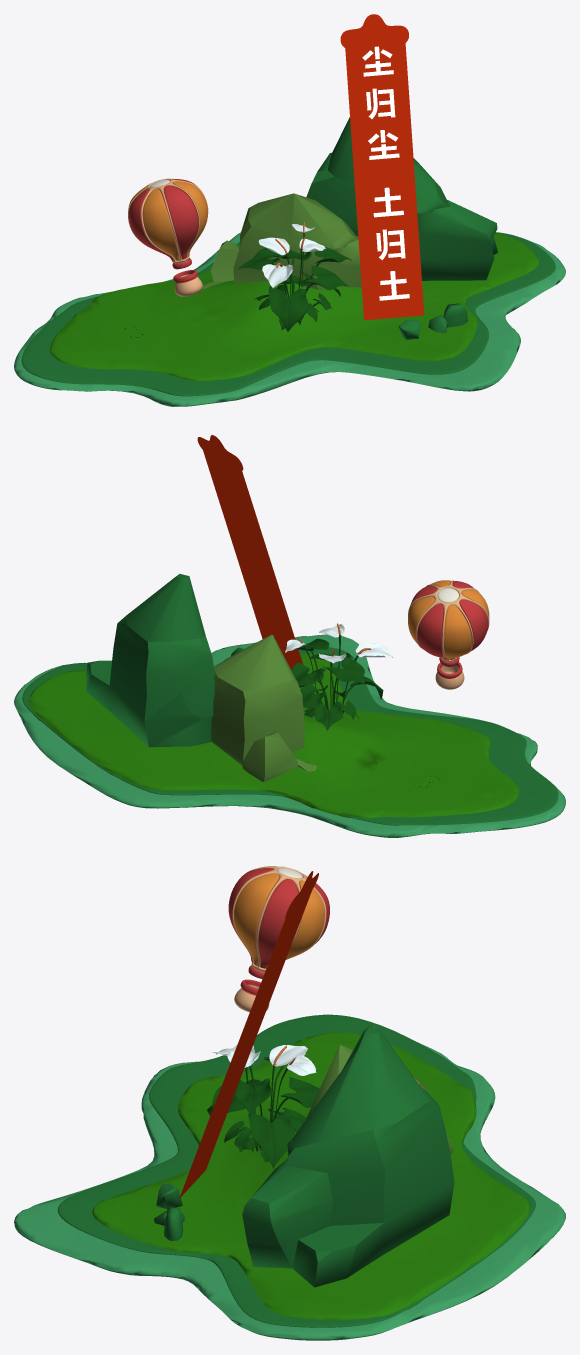
Rendered from island.glb.
3 views of the same model, one above another, from view 1: azimuth 30°, elevation 25°; view 2: azimuth 150°, elevation 25°; view 3: azimuth 270°, elevation 25° (orthographic). The views are drawn at different scales.
Bounding box in the file's own units: 22.94 × 12.16 × 16.64.
